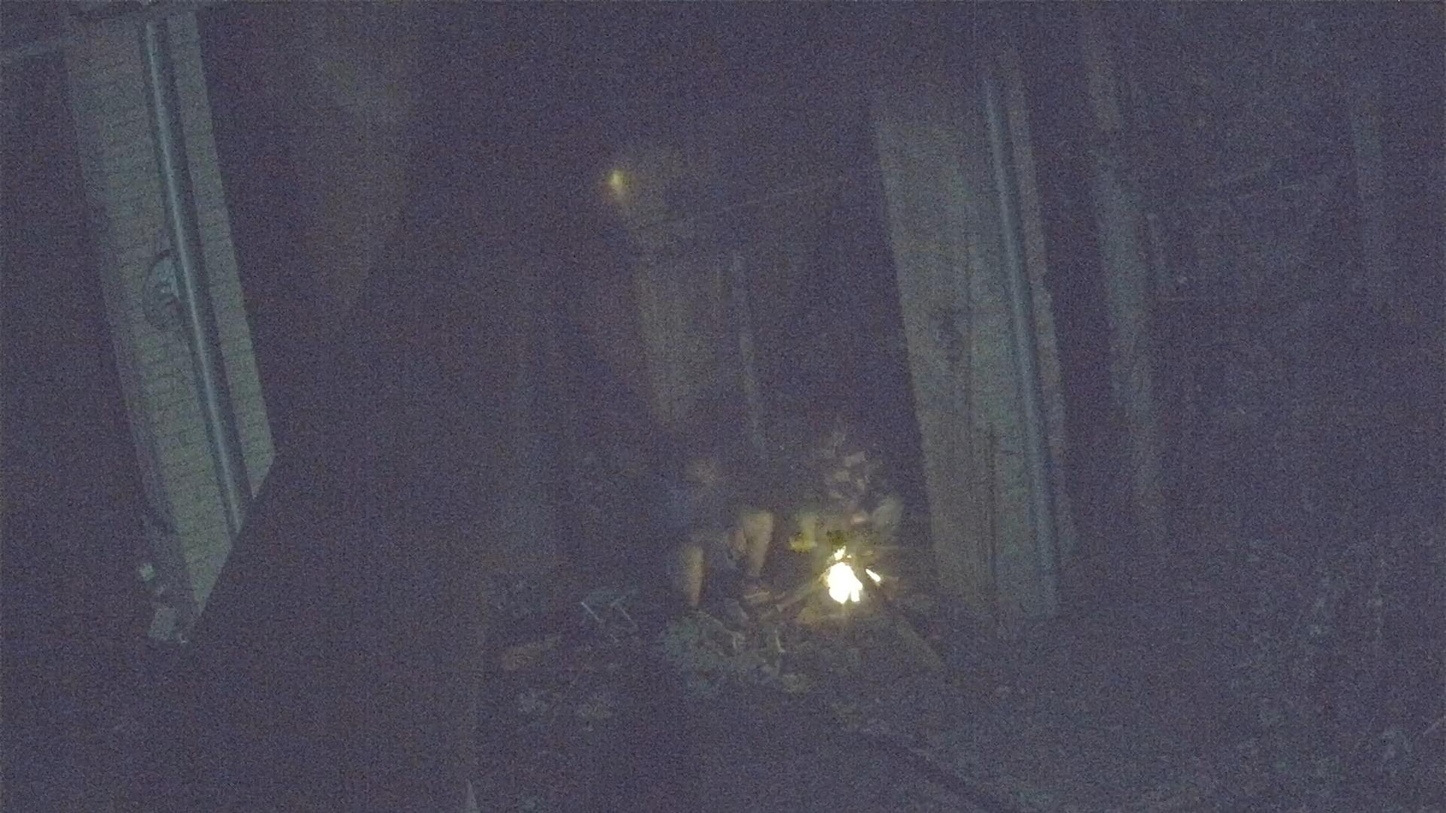fire: (822, 547, 864, 604), (865, 569, 880, 585)
